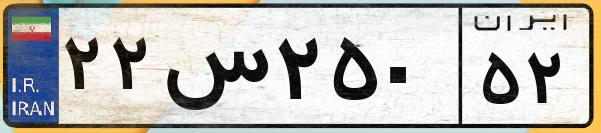0: (385, 28, 445, 110)
2: (270, 28, 330, 110), (57, 26, 110, 100), (525, 38, 570, 115), (110, 28, 158, 98)
5: (330, 28, 385, 110), (475, 38, 525, 113)
س: (158, 20, 270, 120)
